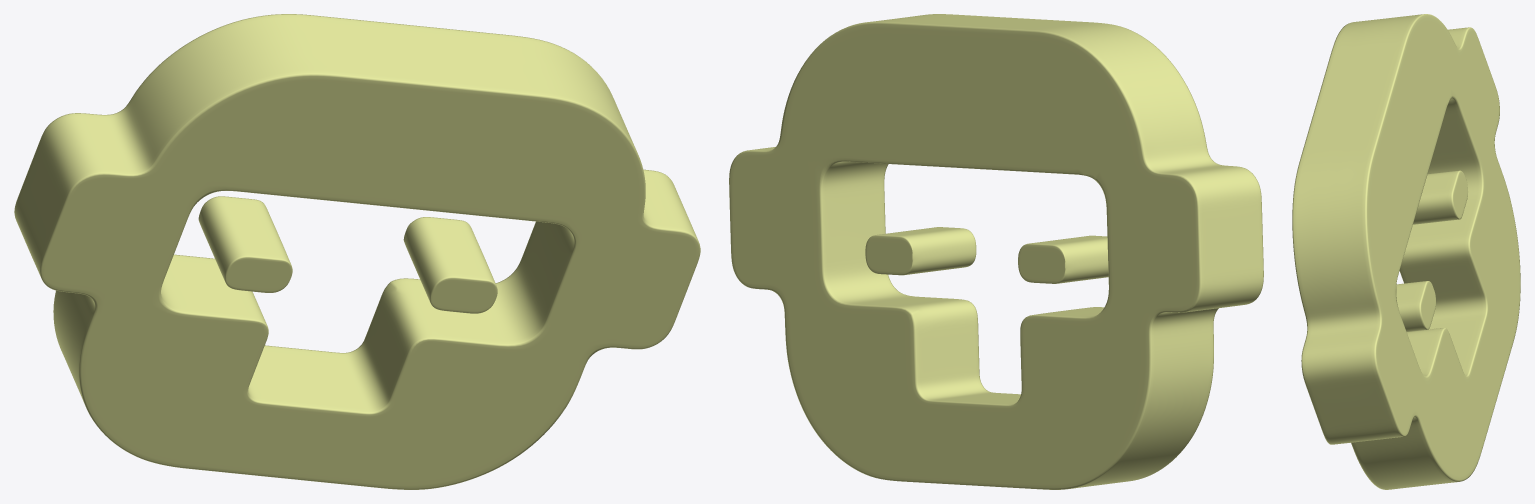
The model's file is monkey.gltf.
3 views of the same model, side by side, from view 1: azimuth 30°, elevation 25°; view 2: azimuth 150°, elevation 25°; view 3: azimuth 270°, elevation 25° (orthographic). The views are drawn at different scales.
Visible parts, largest first — view 1: 20. CHIMP.004; view 2: 20. CHIMP.004; view 3: 20. CHIMP.004.
Part boxes in pixels (box(x1,y1,x2,y2)): 20. CHIMP.004: box(14, 14, 700, 489); 20. CHIMP.004: box(729, 14, 1263, 489); 20. CHIMP.004: box(1292, 14, 1520, 489).
Size of the model in its own units: 2.18 by 1.74 by 0.9123.
